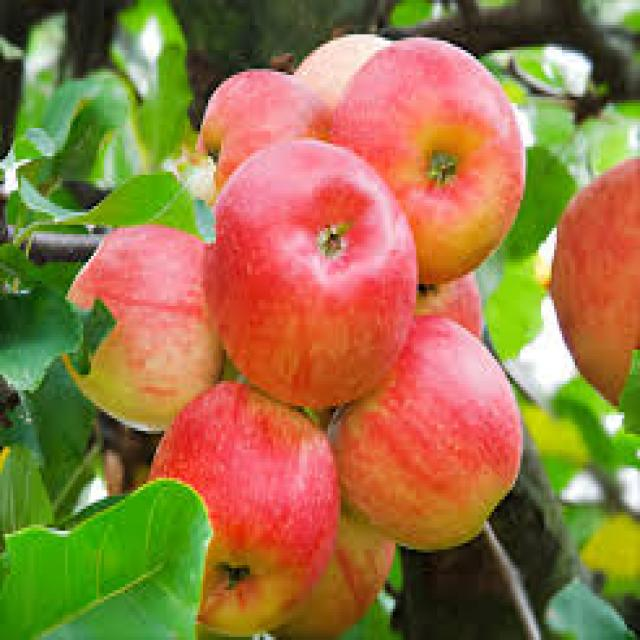Apple: (198, 149, 427, 418), (333, 36, 535, 283), (160, 365, 332, 634), (57, 228, 232, 428), (358, 336, 520, 548), (563, 178, 640, 419), (188, 78, 341, 166)
